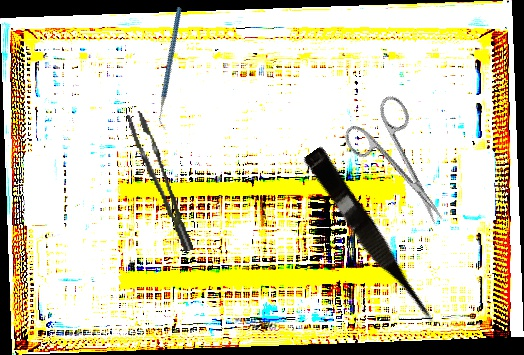Chopper: (122, 6, 221, 131)
Iris Scissors: (337, 91, 466, 242)
Micro Scissor: (299, 145, 441, 332)
Tissue Forceps: (126, 106, 194, 258)
